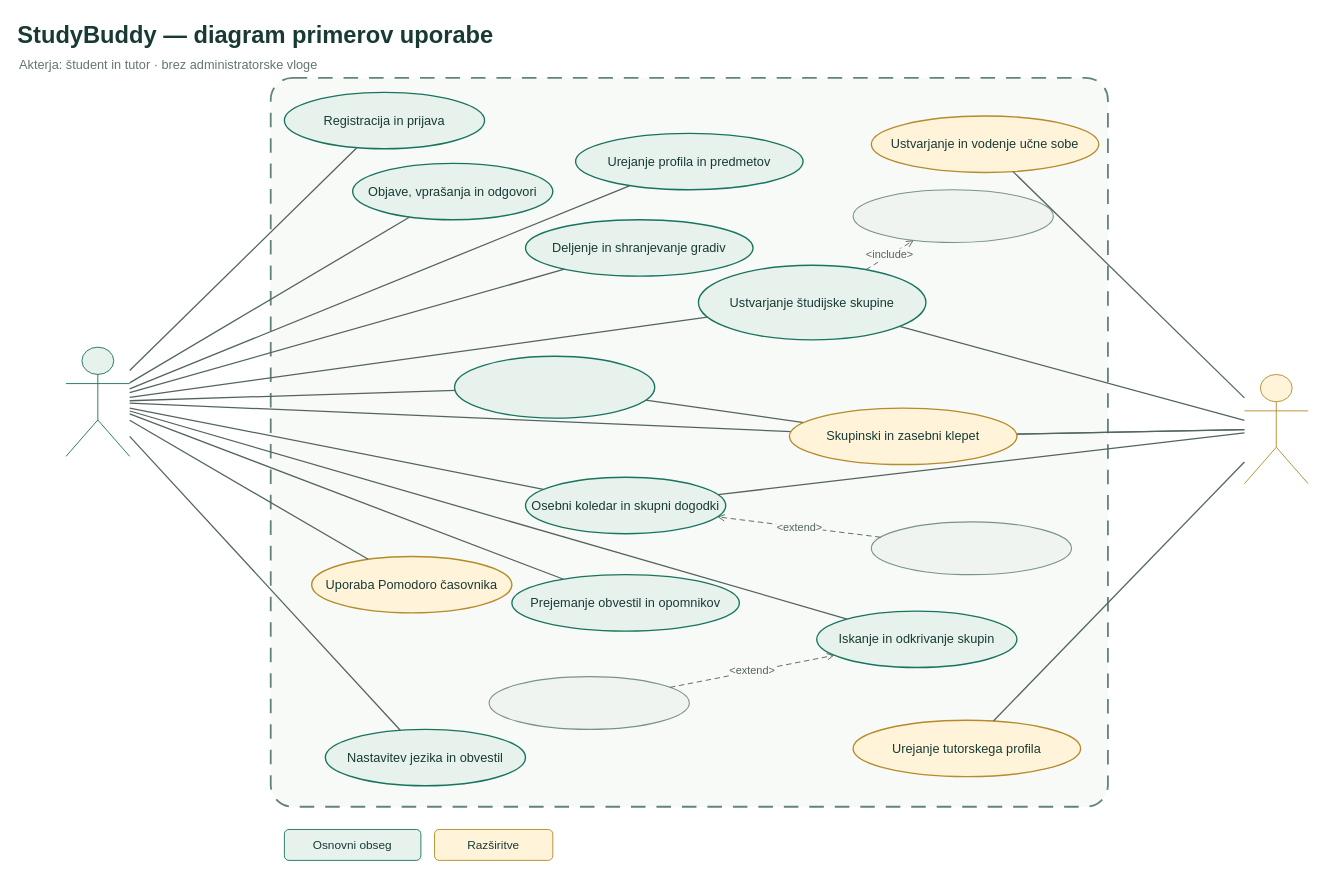
This 1324x876 diagram has some shape labels left out. The box of each missing label's shape, as (x1, y1, x2, y2) in pixels:
Iskanje partnerja za učenje: (488, 676, 689, 729)
Izbira predmeta skupine: (852, 189, 1053, 243)
Nastavitev opomnika: (870, 521, 1072, 575)
Pridružitev skupini (koda ali povabilo): (453, 355, 655, 418)
StudyBuddy: (269, 76, 1108, 807)
Tutor: (1244, 374, 1308, 484)
Študent: (65, 346, 130, 456)
